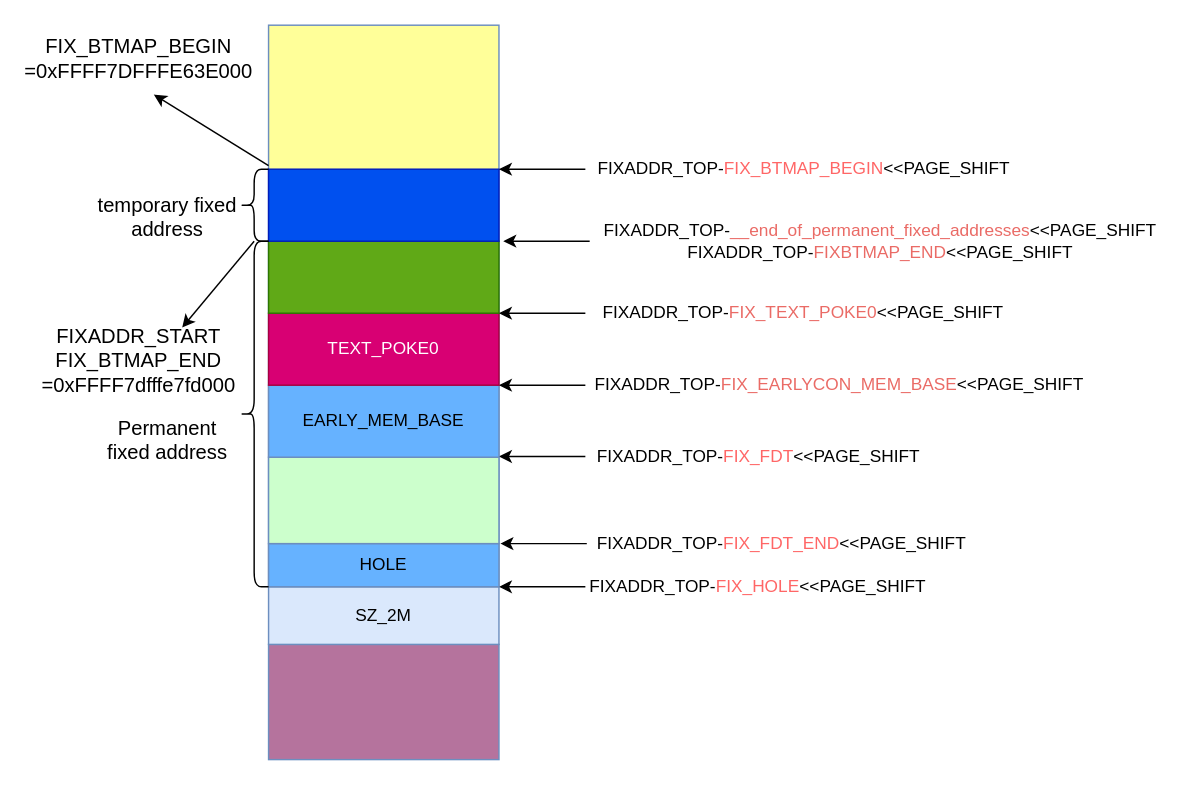
The diagram is 1185 pixels wide and 785 high, and some of its shapes have lost their labels. The box of each missing label's shape, as (x1, y1, x2, y2) in pixels:
FDT: (267, 456, 499, 544)
PCI_IO: (267, 643, 499, 760)
